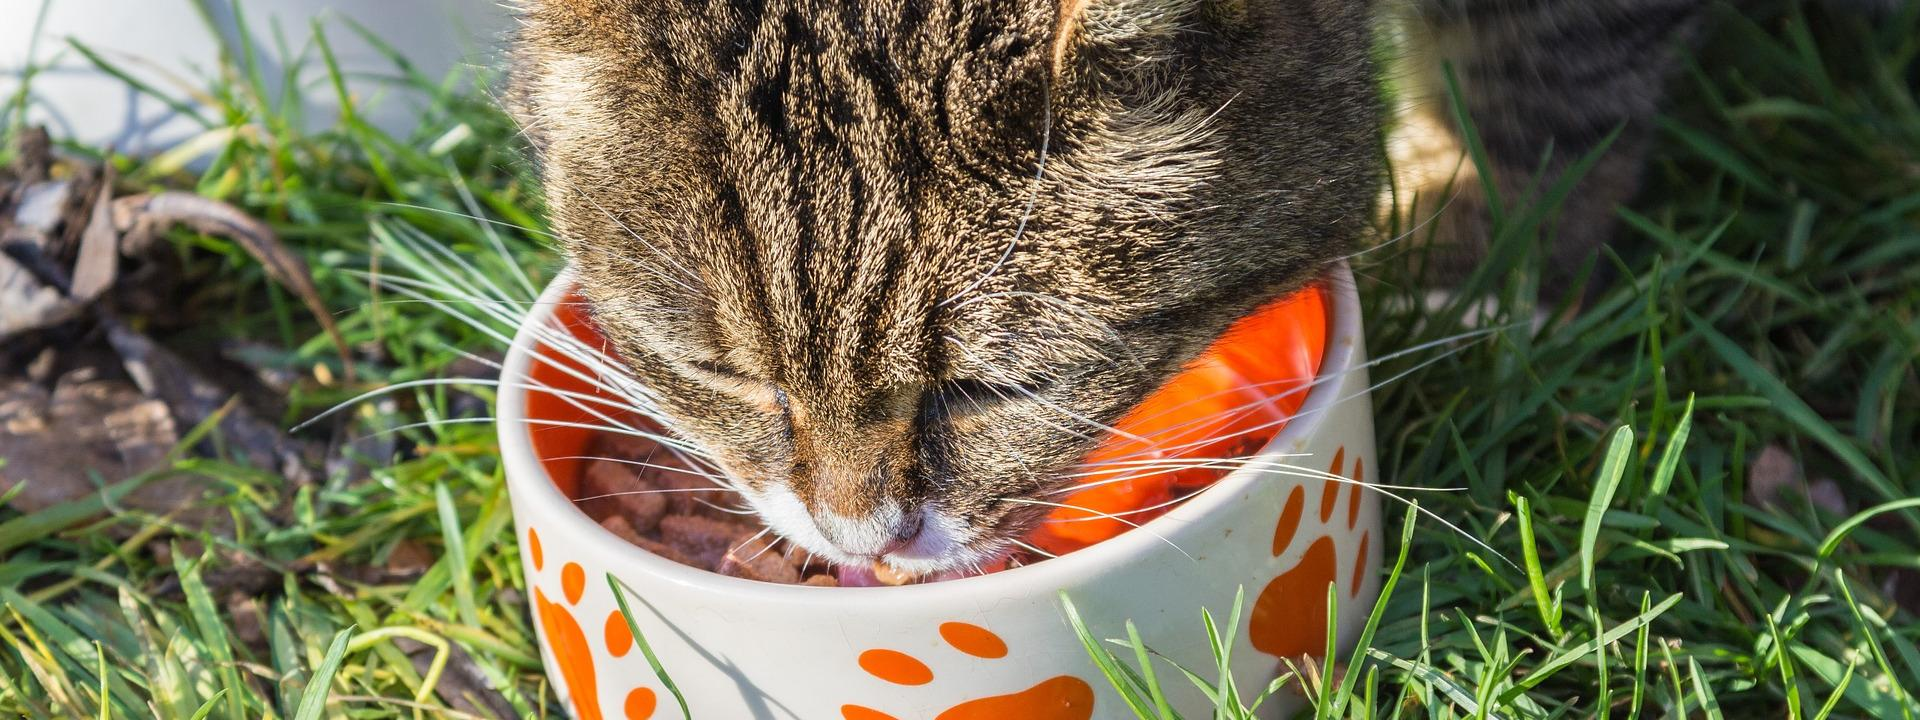cat: (444, 1, 1489, 604)
